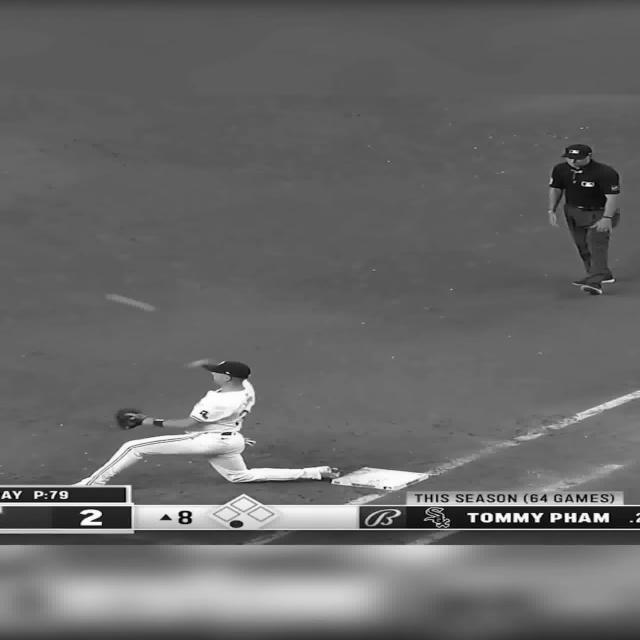base: (345, 470, 437, 486)
baseball: (104, 294, 157, 312)
baseball_glove: (115, 408, 147, 430)
shoe: (572, 277, 614, 285), (320, 466, 340, 480), (581, 284, 602, 294)
